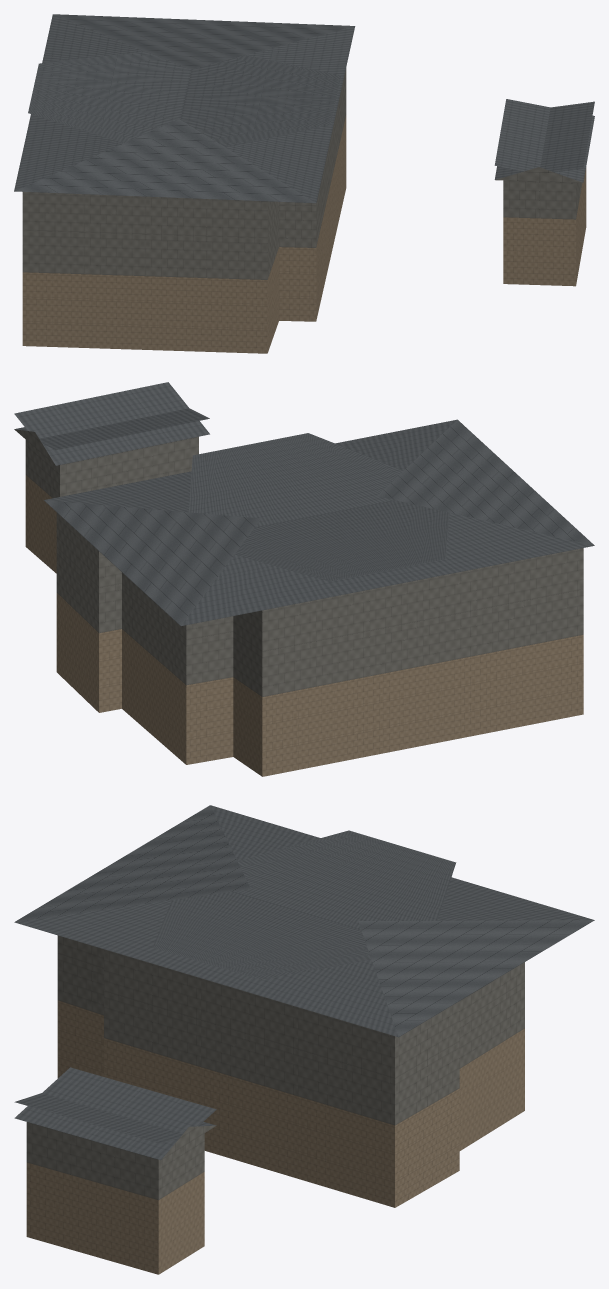
File: bld_c2_-7_594.gltf
3 renders of one model, top to bottom at view 1: azimuth 30°, elevation 25°; view 2: azimuth 150°, elevation 25°; view 3: azimuth 270°, elevation 25°, orthographic. The views are drawn at different scales.
Visible parts, largest first — view 1: bld_c2_-7_594; view 2: bld_c2_-7_594; view 3: bld_c2_-7_594.
Boxes of the visible parts, x1,y1,x2,y2 form: bld_c2_-7_594: (14, 14, 594, 353); bld_c2_-7_594: (14, 382, 594, 776); bld_c2_-7_594: (14, 805, 594, 1274).
Bounding box in the file's own units: 40.46 × 11.9 × 32.55.
4 materials, 4 textured.
